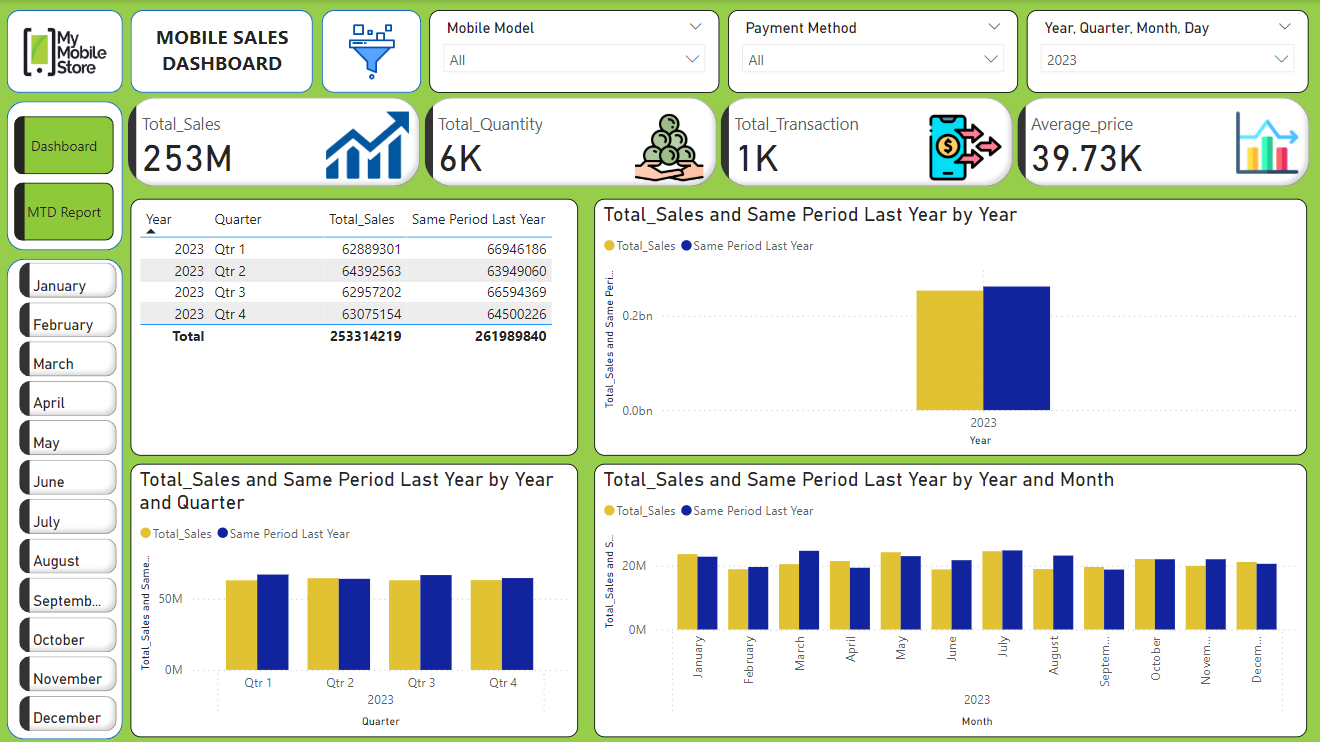

The page's visual inventory and layout, read from the dashboard file:
{"tool":"powerbi","page":{"name":"Same Period Last Year","canvas":[1280,720],"ordinal":2},"visuals":[{"type":"shape","box":[8.5,9.6,112,80],"z":0},{"type":"image","box":[16.5,1.6,96,96],"z":1000},{"type":"shape","box":[8.5,97.6,112,144],"z":2000},{"type":"cardVisual","fields":{"Data":["Mobile_Sales_Data.Total_Sales","Mobile_Sales_Data.Total_Quantity","Mobile_Sales_Data.Total_Transaction","Mobile_Sales_Data.Average_price"]},"box":[120.5,89.6,1152,96],"z":3000},{"type":"slicer","fields":{"Values":["Mobile_Sales_Data.Mobile Model"]},"box":[416.5,9.6,280,80],"z":4000},{"type":"slicer","fields":{"Values":["Mobile_Sales_Data.Payment Method"]},"box":[704.5,9.6,280,80],"z":5000},{"type":"slicer","fields":{"Values":["Custom_Calender.Date.Variation.Date Hierarchy.Year","Custom_Calender.Date.Variation.Date Hierarchy.Quarter","Custom_Calender.Date.Variation.Date Hierarchy.Month","Custom_Calender.Date.Variation.Date Hierarchy.Day"]},"box":[992.5,9.6,272,80],"z":6000},{"type":"shape","box":[312.5,9.6,96,80],"z":7000},{"type":"shape","box":[128.5,9.6,176,80],"z":8000},{"type":"image","box":[296.5,17.6,128,64],"z":9000},{"type":"textbox","box":[136.5,17.6,160,64],"z":10000},{"type":"shape","box":[8.5,249.6,112,464],"z":11000},{"type":"advancedSlicerVisual","fields":{"Values":["Custom_Calender.Date.Variation.Date Hierarchy.Month"]},"box":[16,248,104,464],"z":12000},{"type":"tableEx","fields":{"Values":["Custom_Calender.Date.Variation.Date Hierarchy.Year","Custom_Calender.Date.Variation.Date Hierarchy.Quarter","Mobile_Sales_Data.Total_Sales","Mobile_Sales_Data.Same Period Last Year"]},"box":[128,192,432,248],"z":13000},{"type":"clusteredColumnChart","fields":{"Category":["Custom_Calender.Date.Variation.Date Hierarchy.Year","Custom_Calender.Date.Variation.Date Hierarchy.Quarter"],"Y":["Mobile_Sales_Data.Total_Sales","Mobile_Sales_Data.Same Period Last Year"]},"box":[576,192,688,248],"z":14000},{"type":"clusteredColumnChart","fields":{"Y":["Mobile_Sales_Data.Total_Sales","Mobile_Sales_Data.Same Period Last Year"],"Category":["Custom_Calender.Date.Variation.Date Hierarchy.Year","Custom_Calender.Date.Variation.Date Hierarchy.Month","Custom_Calender.Date.Variation.Date Hierarchy.Day"]},"box":[576,448,688,264],"z":15000},{"type":"clusteredColumnChart","fields":{"Category":["Custom_Calender.Date.Variation.Date Hierarchy.Year","Custom_Calender.Date.Variation.Date Hierarchy.Quarter"],"Y":["Mobile_Sales_Data.Total_Sales","Mobile_Sales_Data.Same Period Last Year"]},"box":[128,448,432,264],"z":16000},{"type":"pageNavigator","box":[16,112,96,120],"z":17000}]}

Visuals, with their boxes in screenshot pixels (x1, y1, x2, y2), scaled from the page's 1280x720 canvas onto the 1320x742 screenshot:
shape: [9, 10, 124, 92]
image: [17, 2, 116, 101]
shape: [9, 101, 124, 249]
cardVisual - Mobile_Sales_Data.Total_Sales x Mobile_Sales_Data.Total_Quantity: [124, 92, 1312, 191]
slicer - Mobile_Sales_Data.Mobile Model: [430, 10, 718, 92]
slicer - Mobile_Sales_Data.Payment Method: [727, 10, 1015, 92]
slicer - Custom_Calender.Date.Variation.Date Hierarchy.Year x Custom_Calender.Date.Variation.Date Hierarchy.Quarter: [1024, 10, 1304, 92]
shape: [322, 10, 421, 92]
shape: [133, 10, 314, 92]
image: [306, 18, 438, 84]
textbox: [141, 18, 306, 84]
shape: [9, 257, 124, 735]
advancedSlicerVisual - Custom_Calender.Date.Variation.Date Hierarchy.Month: [16, 256, 124, 734]
tableEx - Custom_Calender.Date.Variation.Date Hierarchy.Year x Custom_Calender.Date.Variation.Date Hierarchy.Quarter: [132, 198, 578, 453]
clusteredColumnChart - Custom_Calender.Date.Variation.Date Hierarchy.Year x Custom_Calender.Date.Variation.Date Hierarchy.Quarter: [594, 198, 1304, 453]
clusteredColumnChart - Mobile_Sales_Data.Total_Sales x Mobile_Sales_Data.Same Period Last Year: [594, 462, 1304, 734]
clusteredColumnChart - Custom_Calender.Date.Variation.Date Hierarchy.Year x Custom_Calender.Date.Variation.Date Hierarchy.Quarter: [132, 462, 578, 734]
pageNavigator: [16, 115, 116, 239]
